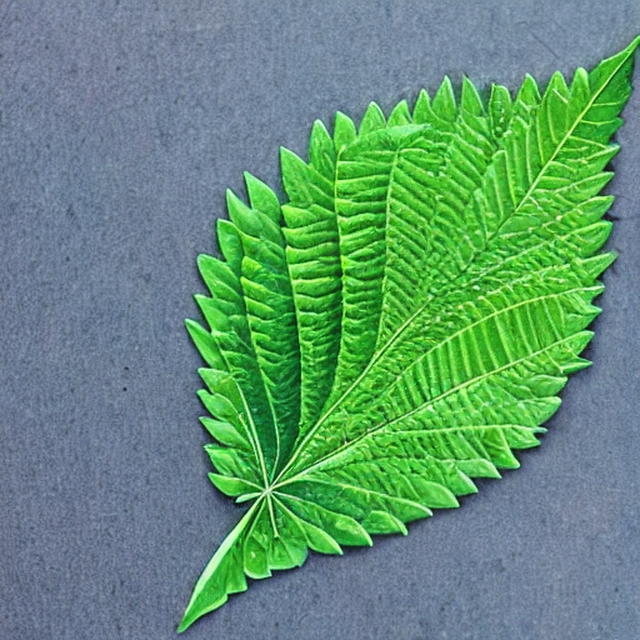Marijuana Leaf: (175, 30, 639, 634)
